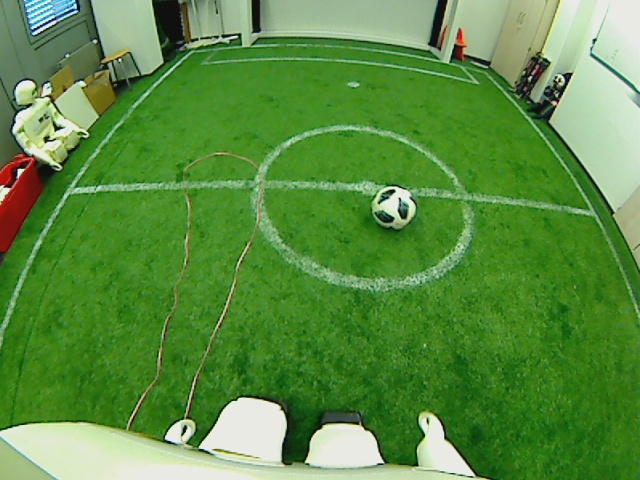ball: (369, 183, 416, 231)
